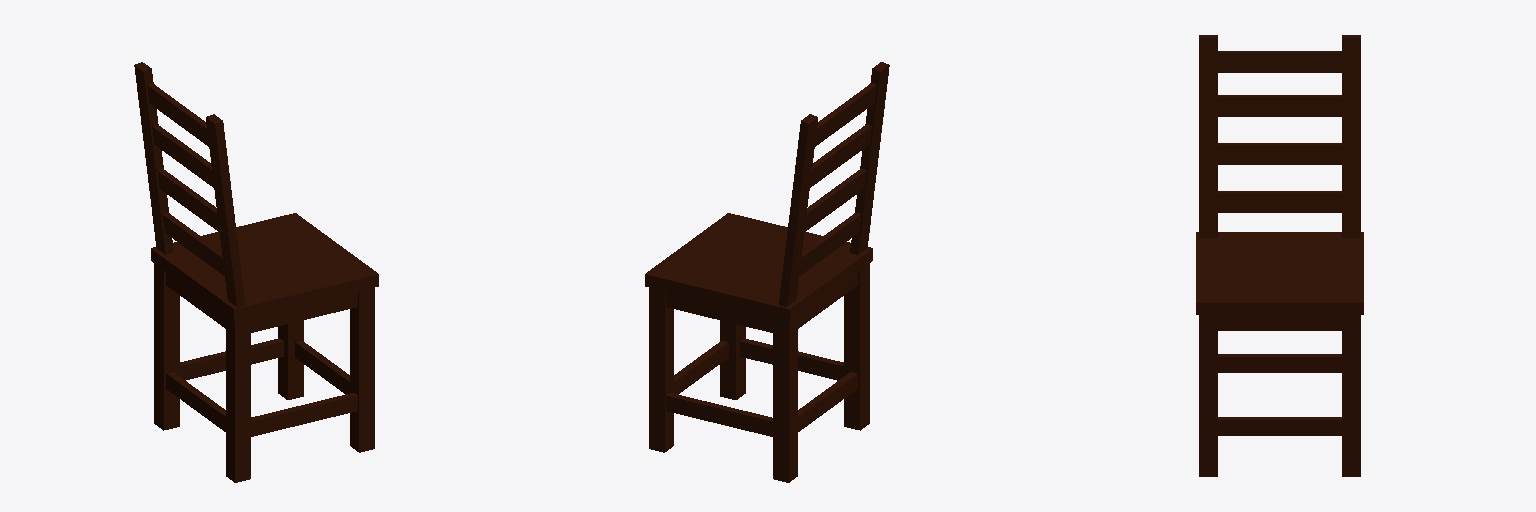
Rendered from chair.obj.
3 views of the same model, side by side, from view 1: azimuth 30°, elevation 25°; view 2: azimuth 150°, elevation 25°; view 3: azimuth 270°, elevation 25° (orthographic).
Visible parts, largest first — view 1: Cube.004_Cube.013_Cube.004_Cube.013, Cube.002_Cube.005_Cube.002_Cube.005, Cube.001_Cube.004_Cube.001_Cube.004, Cube.003_Cube.006_Cube.003_Cube.006, Cube.012_Cube.017_Cube.012_Cube.017, Cube.009_Cube.022_Cube.009_Cube.022, Cube.006_Cube.009_Cube.006_Cube.009, Cube_Cube.003_Cube_Cube.003, Cube.017_Cube.026_Cube.017_Cube.026, Cube.005_Cube.008_Cube.005_Cube.008, Cube.015_Cube.020_Cube.015_Cube.020, Cube.010_Cube.023_Cube.010_Cube.023 (+5 smaller); view 2: Cube.004_Cube.013_Cube.004_Cube.013, Cube.003_Cube.006_Cube.003_Cube.006, Cube_Cube.003_Cube_Cube.003, Cube.002_Cube.005_Cube.002_Cube.005, Cube.009_Cube.022_Cube.009_Cube.022, Cube.012_Cube.017_Cube.012_Cube.017, Cube.005_Cube.008_Cube.005_Cube.008, Cube.013_Cube.025_Cube.013_Cube.025, Cube.001_Cube.004_Cube.001_Cube.004, Cube.006_Cube.009_Cube.006_Cube.009, Cube.015_Cube.020_Cube.015_Cube.020, Cube.010_Cube.023_Cube.010_Cube.023 (+5 smaller); view 3: Cube.004_Cube.013_Cube.004_Cube.013, Cube.009_Cube.022_Cube.009_Cube.022, Cube.012_Cube.017_Cube.012_Cube.017, Cube.001_Cube.004_Cube.001_Cube.004, Cube_Cube.003_Cube_Cube.003, Cube.010_Cube.023_Cube.010_Cube.023, Cube.016_Cube.021_Cube.016_Cube.021, Cube.015_Cube.020_Cube.015_Cube.020, Cube.014_Cube.019_Cube.014_Cube.019, Cube.008_Cube.011_Cube.008_Cube.011, Cube.007_Cube.010_Cube.007_Cube.010, Cube.011_Cube.024_Cube.011_Cube.024.
Boxes of the visible parts, box(x1,y1,x2,y2) form: Cube.004_Cube.013_Cube.004_Cube.013: box(151, 213, 378, 321); Cube.002_Cube.005_Cube.002_Cube.005: box(226, 316, 250, 482); Cube.001_Cube.004_Cube.001_Cube.004: box(350, 288, 374, 452); Cube.003_Cube.006_Cube.003_Cube.006: box(154, 263, 179, 430); Cube.012_Cube.017_Cube.012_Cube.017: box(206, 114, 244, 306); Cube.009_Cube.022_Cube.009_Cube.022: box(134, 62, 173, 254); Cube.006_Cube.009_Cube.006_Cube.009: box(251, 393, 357, 436); Cube_Cube.003_Cube_Cube.003: box(278, 320, 303, 399); Cube.017_Cube.026_Cube.017_Cube.026: box(251, 292, 357, 332); Cube.005_Cube.008_Cube.005_Cube.008: box(180, 338, 283, 380); Cube.015_Cube.020_Cube.015_Cube.020: box(157, 168, 219, 232); Cube.010_Cube.023_Cube.010_Cube.023: box(152, 124, 213, 187); Cube.004_Cube.013_Cube.004_Cube.013: box(645, 213, 872, 321); Cube.003_Cube.006_Cube.003_Cube.006: box(773, 316, 797, 482); Cube_Cube.003_Cube_Cube.003: box(649, 288, 673, 452); Cube.002_Cube.005_Cube.002_Cube.005: box(844, 263, 869, 430); Cube.009_Cube.022_Cube.009_Cube.022: box(779, 114, 817, 306); Cube.012_Cube.017_Cube.012_Cube.017: box(850, 62, 889, 254); Cube.005_Cube.008_Cube.005_Cube.008: box(666, 393, 772, 436); Cube.013_Cube.025_Cube.013_Cube.025: box(666, 292, 772, 332); Cube.001_Cube.004_Cube.001_Cube.004: box(720, 320, 745, 399); Cube.006_Cube.009_Cube.006_Cube.009: box(740, 338, 843, 380); Cube.015_Cube.020_Cube.015_Cube.020: box(804, 168, 866, 232); Cube.010_Cube.023_Cube.010_Cube.023: box(810, 124, 871, 187); Cube.004_Cube.013_Cube.004_Cube.013: box(1196, 232, 1363, 314); Cube.009_Cube.022_Cube.009_Cube.022: box(1342, 35, 1360, 237); Cube.012_Cube.017_Cube.012_Cube.017: box(1199, 35, 1217, 237); Cube.001_Cube.004_Cube.001_Cube.004: box(1199, 315, 1217, 476); Cube_Cube.003_Cube_Cube.003: box(1342, 315, 1360, 476); Cube.010_Cube.023_Cube.010_Cube.023: box(1218, 95, 1341, 116); Cube.016_Cube.021_Cube.016_Cube.021: box(1218, 191, 1341, 212); Cube.015_Cube.020_Cube.015_Cube.020: box(1218, 143, 1341, 164); Cube.014_Cube.019_Cube.014_Cube.019: box(1218, 51, 1341, 72); Cube.008_Cube.011_Cube.008_Cube.011: box(1218, 354, 1341, 372); Cube.007_Cube.010_Cube.007_Cube.010: box(1218, 417, 1341, 435); Cube.011_Cube.024_Cube.011_Cube.024: box(1218, 315, 1341, 330).
Size of the model in its own units: 2.63 by 5.63 by 2.34.